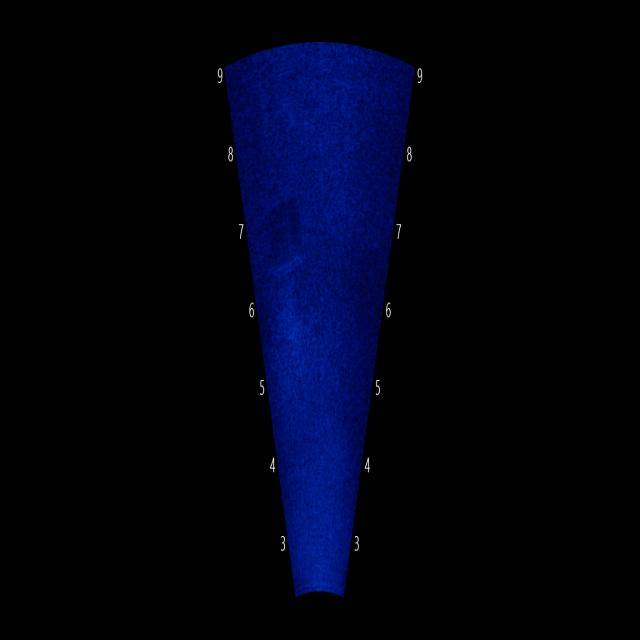square: (257, 160, 308, 289)
